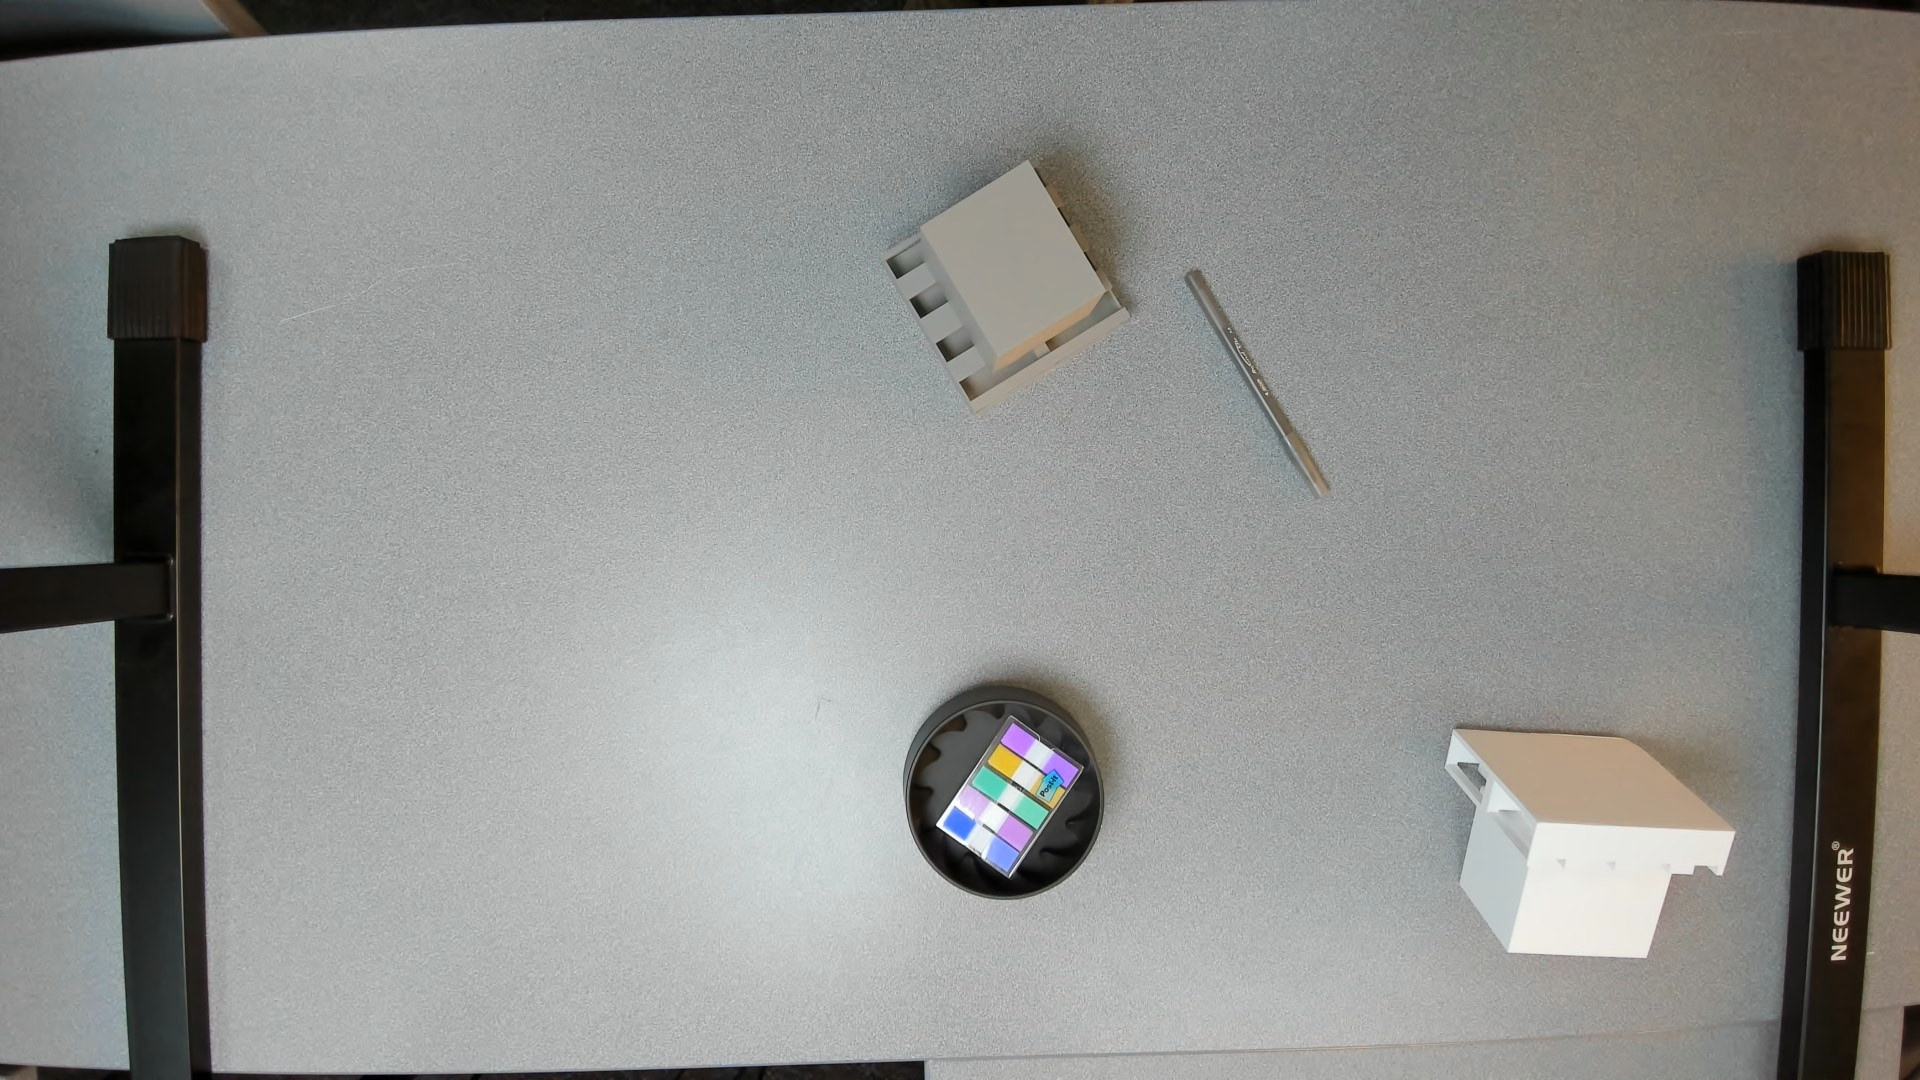grey pallet: (869, 156, 1143, 439)
white pallet: (1440, 709, 1745, 986)
